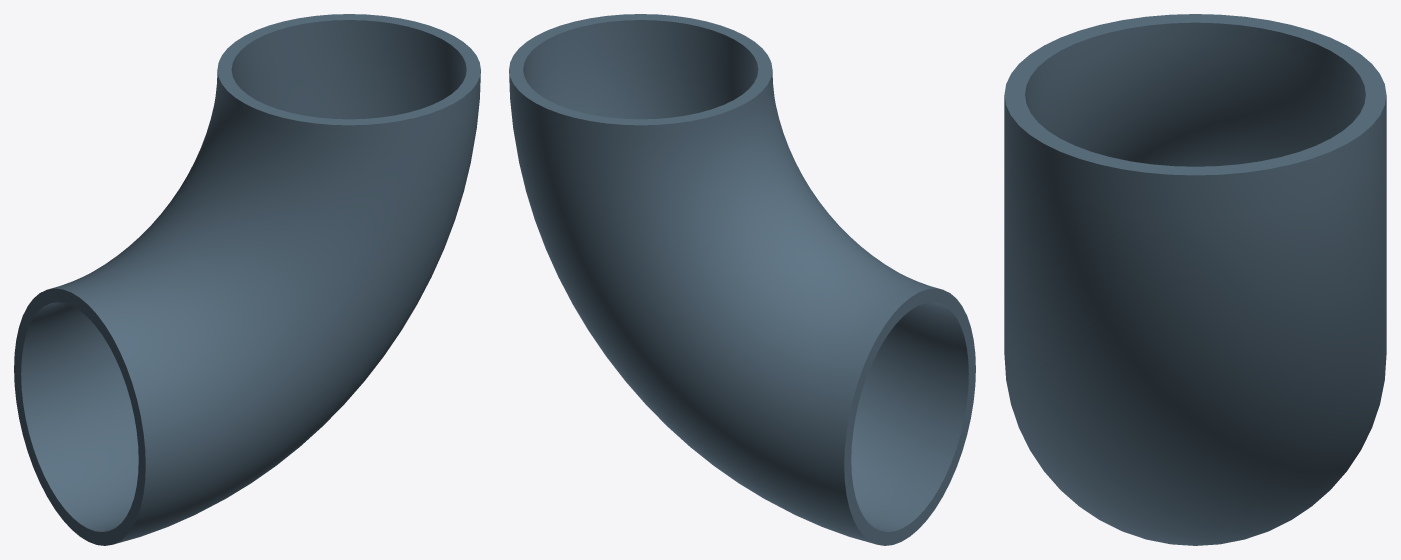
File: otvod-90-48_3x2_6-R57.glb
3 renders of one model, left to right at view 1: azimuth 30°, elevation 25°; view 2: azimuth 150°, elevation 25°; view 3: azimuth 270°, elevation 25°, orthographic. The views are drawn at different scales.
Visible parts, largest first — view 1: Open CASCADE STEP translator 7.9 12; view 2: Open CASCADE STEP translator 7.9 12; view 3: Open CASCADE STEP translator 7.9 12.
Part boxes in pixels (x1,y1,x2,y2): Open CASCADE STEP translator 7.9 12: (14,14,480,545); Open CASCADE STEP translator 7.9 12: (509,14,975,545); Open CASCADE STEP translator 7.9 12: (1004,14,1386,545).
Size of the model in its own units: 81.15 by 81.15 by 48.3.
